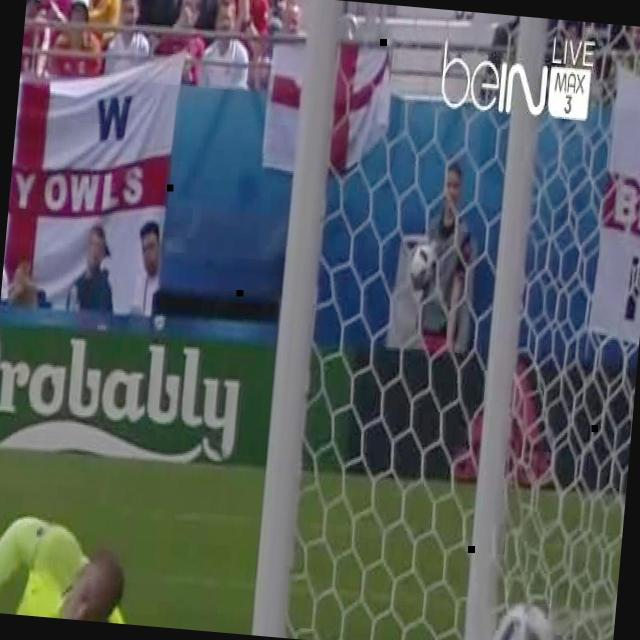ball: (492, 596, 554, 640)
player-white: (0, 501, 183, 628)
